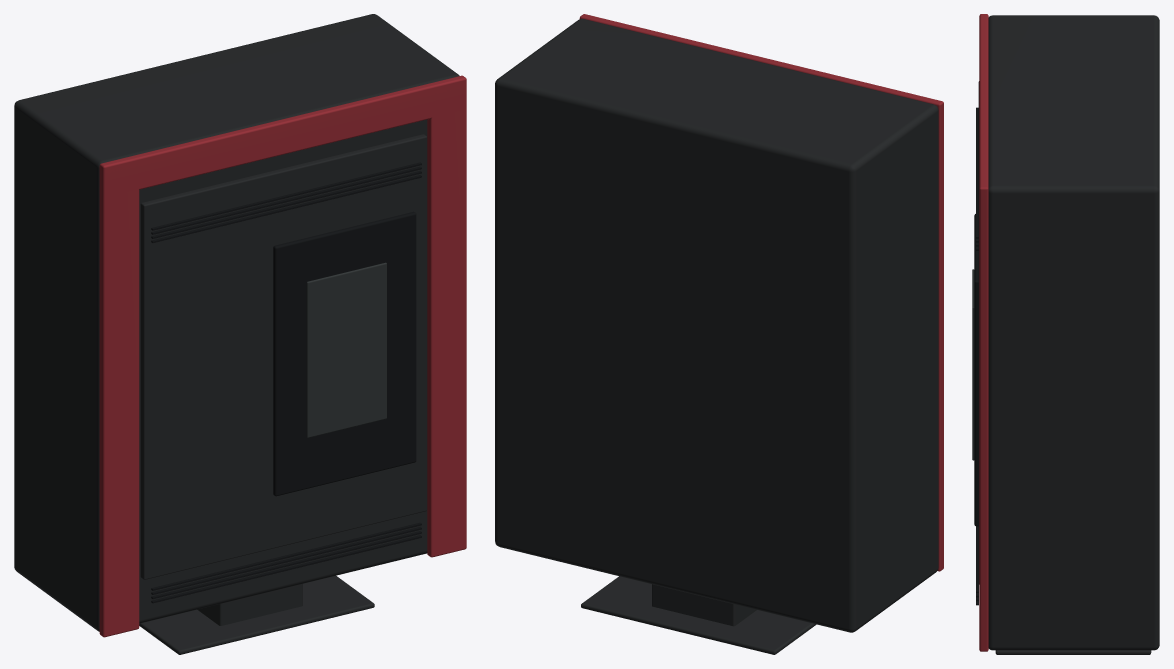
The model's file is nordica-souvenir-plus-steel-50-bordeaux.glb.
The picture shows the model from 3 angles, left to right: view 1: azimuth 30°, elevation 25°; view 2: azimuth 150°, elevation 25°; view 3: azimuth 270°, elevation 25°; orthographic projection.
Visible parts, largest first — view 1: Corpo.002, Frontale.002, Cornice sportello.002, Montante.004, Montante.005, Cornice superiore.002, Vetro sportello.002, Base.001, Piedistallo.001, Griglia inferiore.009, Griglia inferiore.010, Griglia inferiore.011 (+5 smaller); view 2: Corpo.002, Base.001, Montante.004, Cornice superiore.002, Piedistallo.001; view 3: Corpo.002, Montante.005, Cornice superiore.002, Cornice sportello.002, Frontale.002, Base.001, Vetro sportello.002, Griglia superiore.008.
Part boxes in pixels (x1=…): Corpo.002: x1=14, y1=14, x2=459, y2=631; Frontale.002: x1=140, y1=134, x2=427, y2=579; Cornice sportello.002: x1=273, y1=211, x2=416, y2=496; Montante.004: x1=99, y1=160, x2=139, y2=637; Montante.005: x1=427, y1=80, x2=466, y2=557; Cornice superiore.002: x1=99, y1=75, x2=466, y2=196; Vetro sportello.002: x1=306, y1=262, x2=386, y2=437; Base.001: x1=139, y1=575, x2=374, y2=654; Piedistallo.001: x1=197, y1=584, x2=302, y2=625; Griglia inferiore.009: x1=151, y1=531, x2=421, y2=598; Griglia inferiore.010: x1=151, y1=526, x2=421, y2=594; Griglia inferiore.011: x1=151, y1=522, x2=421, y2=590; Corpo.002: x1=495, y1=19, x2=938, y2=632; Base.001: x1=581, y1=576, x2=816, y2=654; Montante.004: x1=906, y1=97, x2=943, y2=571; Cornice superiore.002: x1=579, y1=14, x2=943, y2=134; Piedistallo.001: x1=652, y1=584, x2=756, y2=626; Corpo.002: x1=988, y1=15, x2=1159, y2=650; Montante.005: x1=979, y1=188, x2=988, y2=651; Cornice superiore.002: x1=979, y1=14, x2=988, y2=218; Cornice sportello.002: x1=974, y1=214, x2=978, y2=526; Frontale.002: x1=978, y1=81, x2=979, y2=584; Base.001: x1=995, y1=650, x2=1151, y2=654; Vetro sportello.002: x1=972, y1=269, x2=974, y2=460; Griglia superiore.008: x1=976, y1=107, x2=978, y2=238.
Bounding box in the file's own units: 0.821 × 1.11 × 0.3725.
